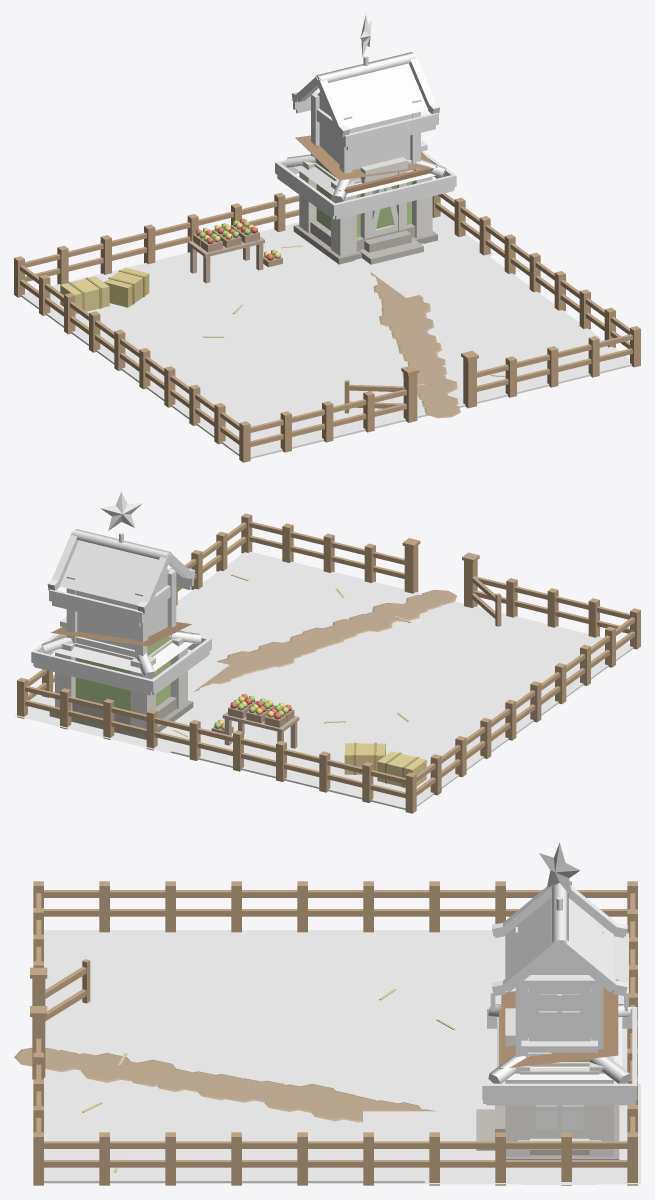
Rendered from orchard_1.glb.
3 renders of one model, top to bottom at view 1: azimuth 30°, elevation 25°; view 2: azimuth 150°, elevation 25°; view 3: azimuth 270°, elevation 25°, orthographic. The views are drawn at different scales.
Visible parts, largest first — view 1: body6, when_plan_true, orchard_1, body5; view 2: body6, when_plan_true, orchard_1, body5, body3, body4; view 3: body6, when_plan_true, orchard_1.
Part boxes in pixels (x1,y1,x2,y2): body6: (14, 135, 640, 462); when_plan_true: (275, 15, 456, 219); orchard_1: (259, 212, 493, 297); body5: (230, 218, 282, 267); body6: (17, 513, 640, 813); when_plan_true: (31, 491, 211, 695); orchard_1: (14, 659, 250, 753); body5: (211, 694, 257, 733); body3: (264, 703, 294, 727); body4: (246, 698, 275, 723); body6: (14, 881, 637, 1185); when_plan_true: (482, 843, 637, 1105); orchard_1: (363, 1084, 640, 1184).
Size of the model in its own units: 2.73 by 1.45 by 2.8.
